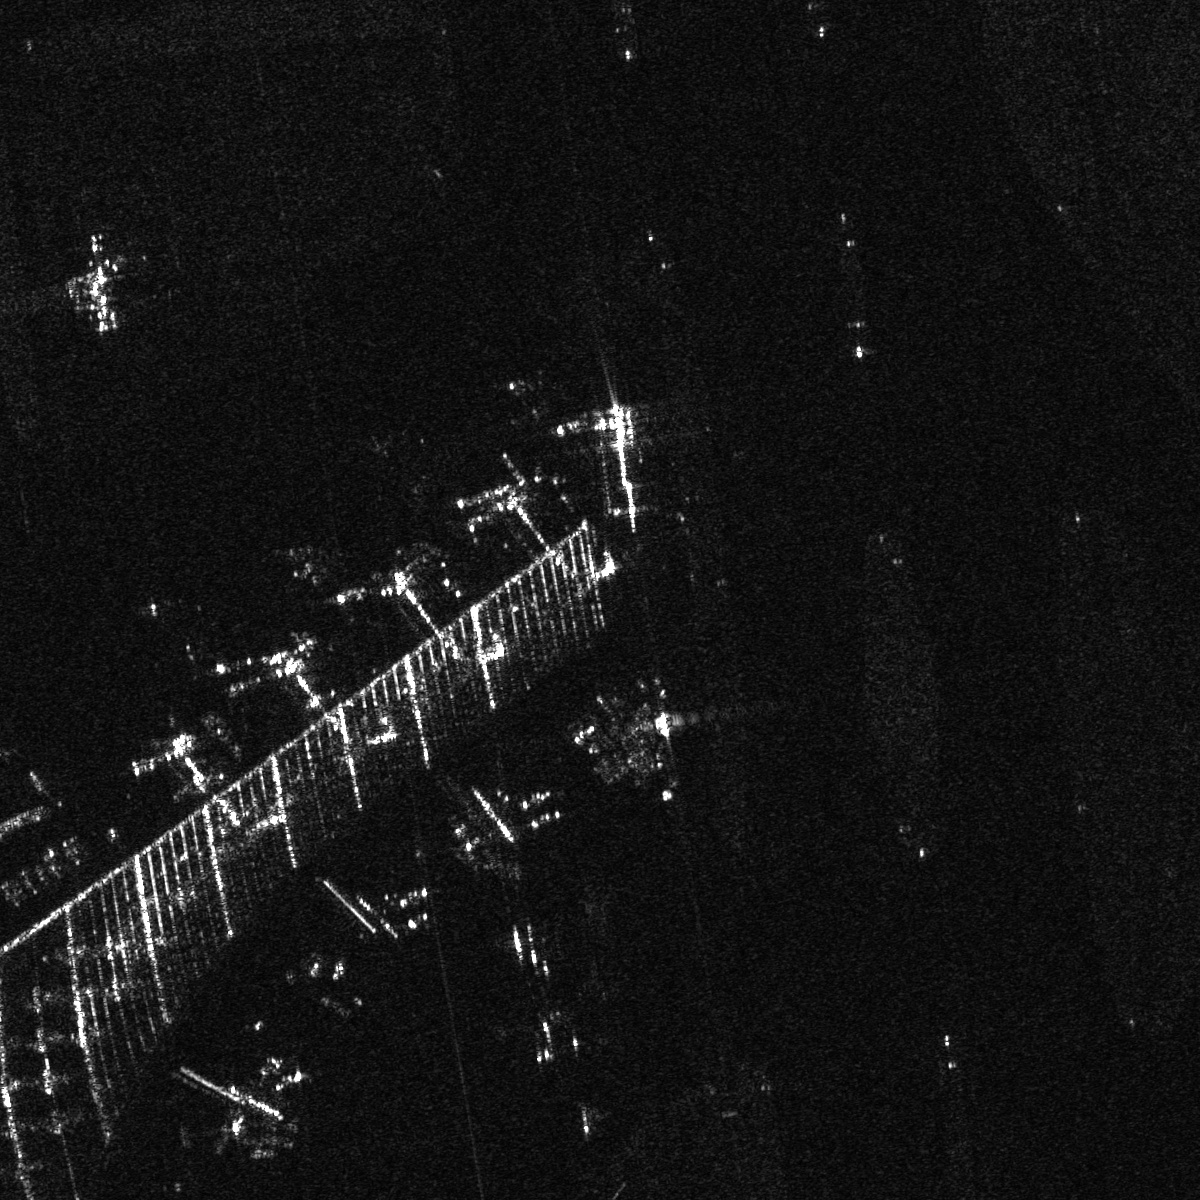A220: (508, 378, 562, 422)
